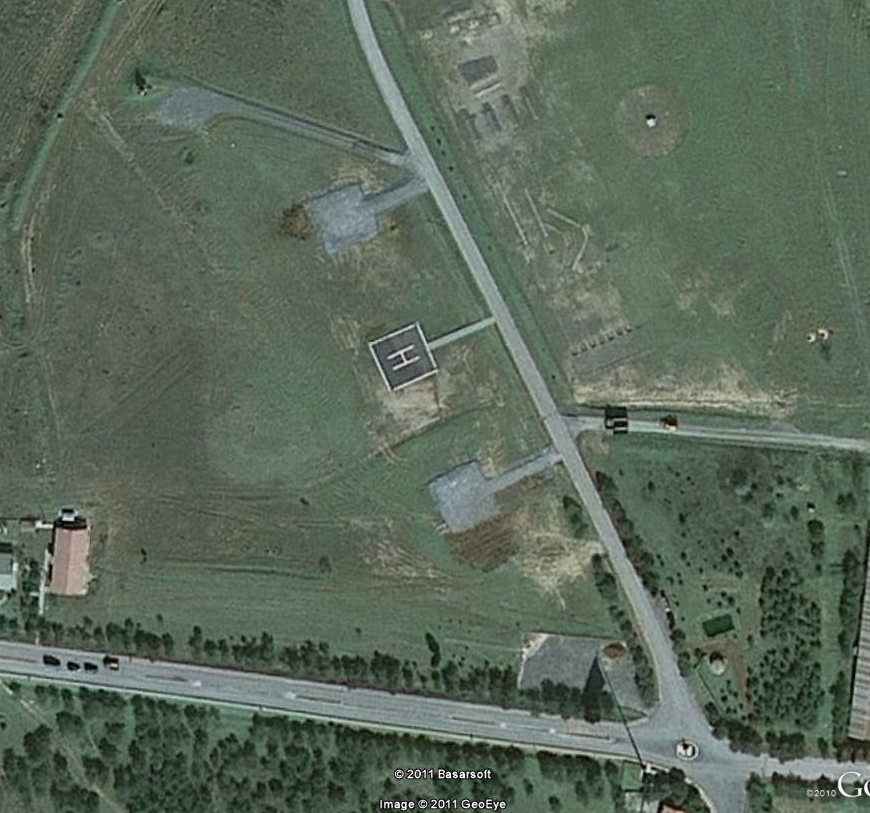heliport: (381, 341, 423, 372)
